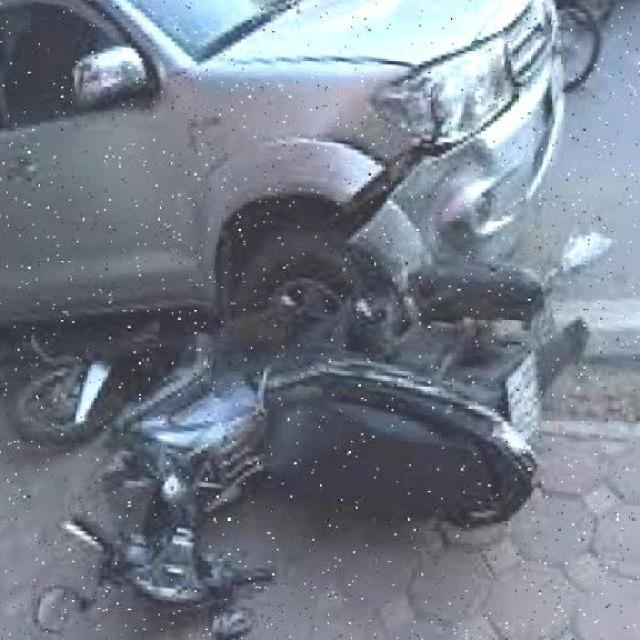accident: (0, 289, 582, 640), (173, 0, 591, 421)
